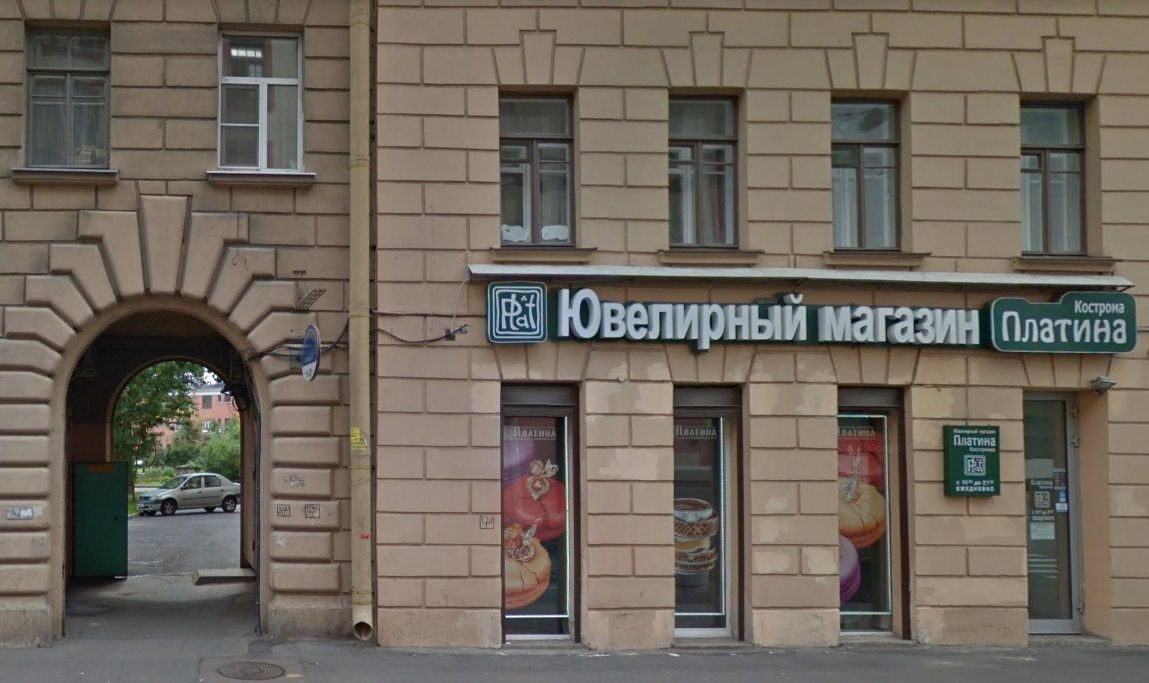arch: (57, 288, 264, 636)
signboard: (486, 277, 1138, 356)
window: (834, 406, 898, 637), (507, 416, 571, 638), (22, 25, 110, 170), (498, 92, 575, 249), (675, 413, 729, 634), (217, 35, 301, 170), (1020, 98, 1091, 256), (672, 95, 741, 249), (831, 101, 898, 253)
